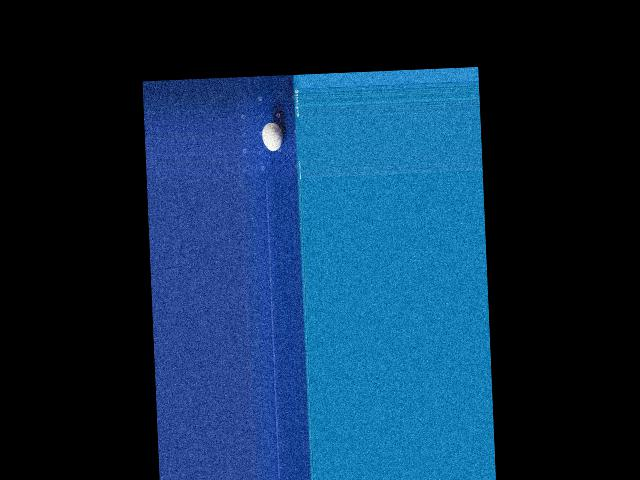egg: (262, 122, 283, 151)
